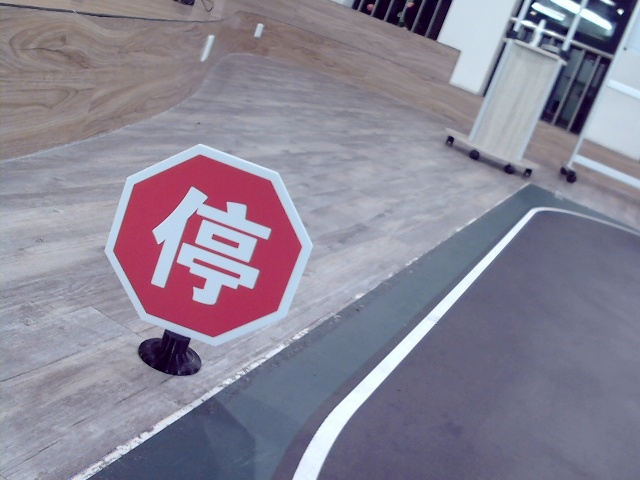stop: (146, 183, 268, 302)
